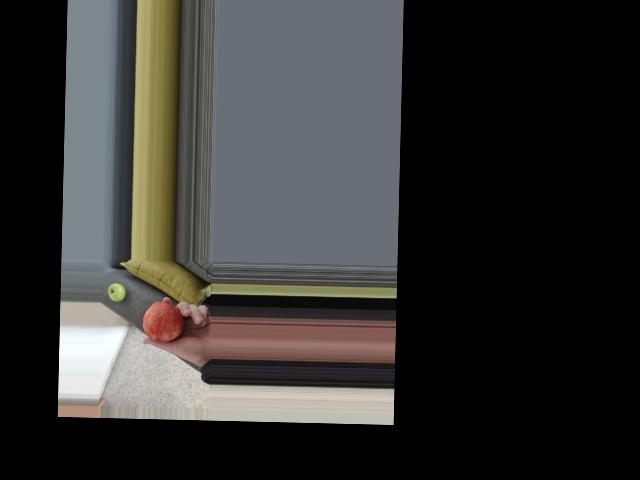apple: (106, 277, 131, 302)
